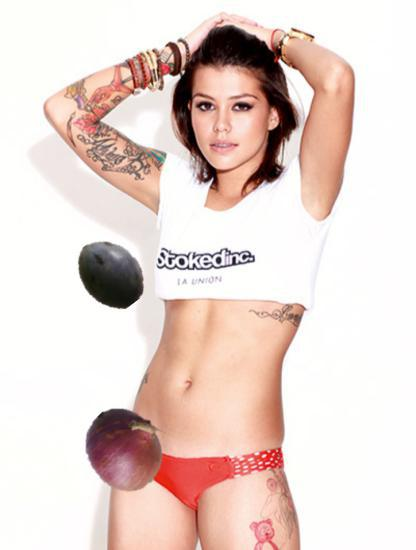Onion: (83, 406, 169, 492)
Plum: (73, 236, 149, 312)
